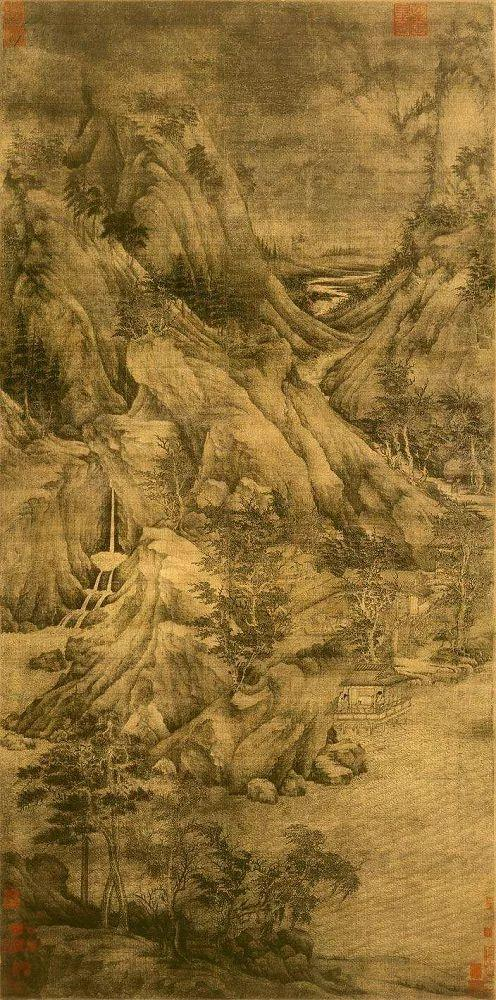booth: (333, 665, 416, 736)
man: (372, 691, 390, 712), (336, 693, 351, 711)
range: (27, 135, 325, 761)
river: (8, 733, 359, 905), (328, 691, 495, 947), (300, 257, 361, 385)
tree: (170, 837, 308, 956), (44, 751, 127, 936), (211, 509, 278, 674), (323, 539, 392, 663), (429, 510, 478, 660), (6, 309, 68, 425), (69, 179, 145, 266), (377, 361, 429, 480), (177, 264, 261, 333), (150, 442, 201, 525), (453, 393, 491, 491), (123, 281, 171, 344)
waterfall: (59, 482, 118, 629)
